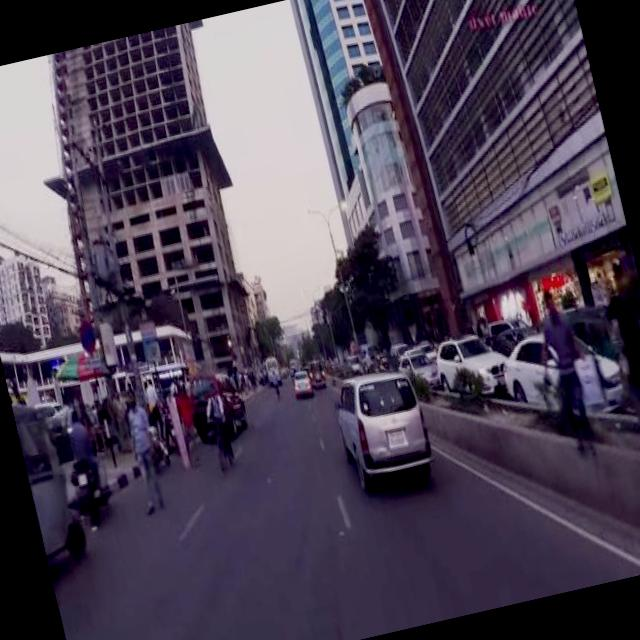bus: (260, 351, 279, 378)
car: (494, 316, 626, 428), (325, 360, 435, 488), (429, 324, 509, 398), (178, 359, 248, 436), (393, 345, 438, 388), (288, 364, 311, 390)
motorcycle: (10, 392, 86, 558), (66, 442, 112, 520), (202, 411, 236, 472)
truck: (306, 356, 324, 384)
